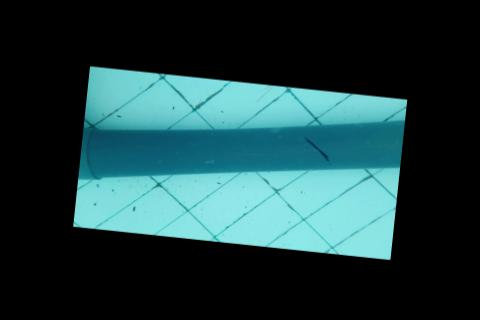keretakan: (300, 136, 332, 163)
